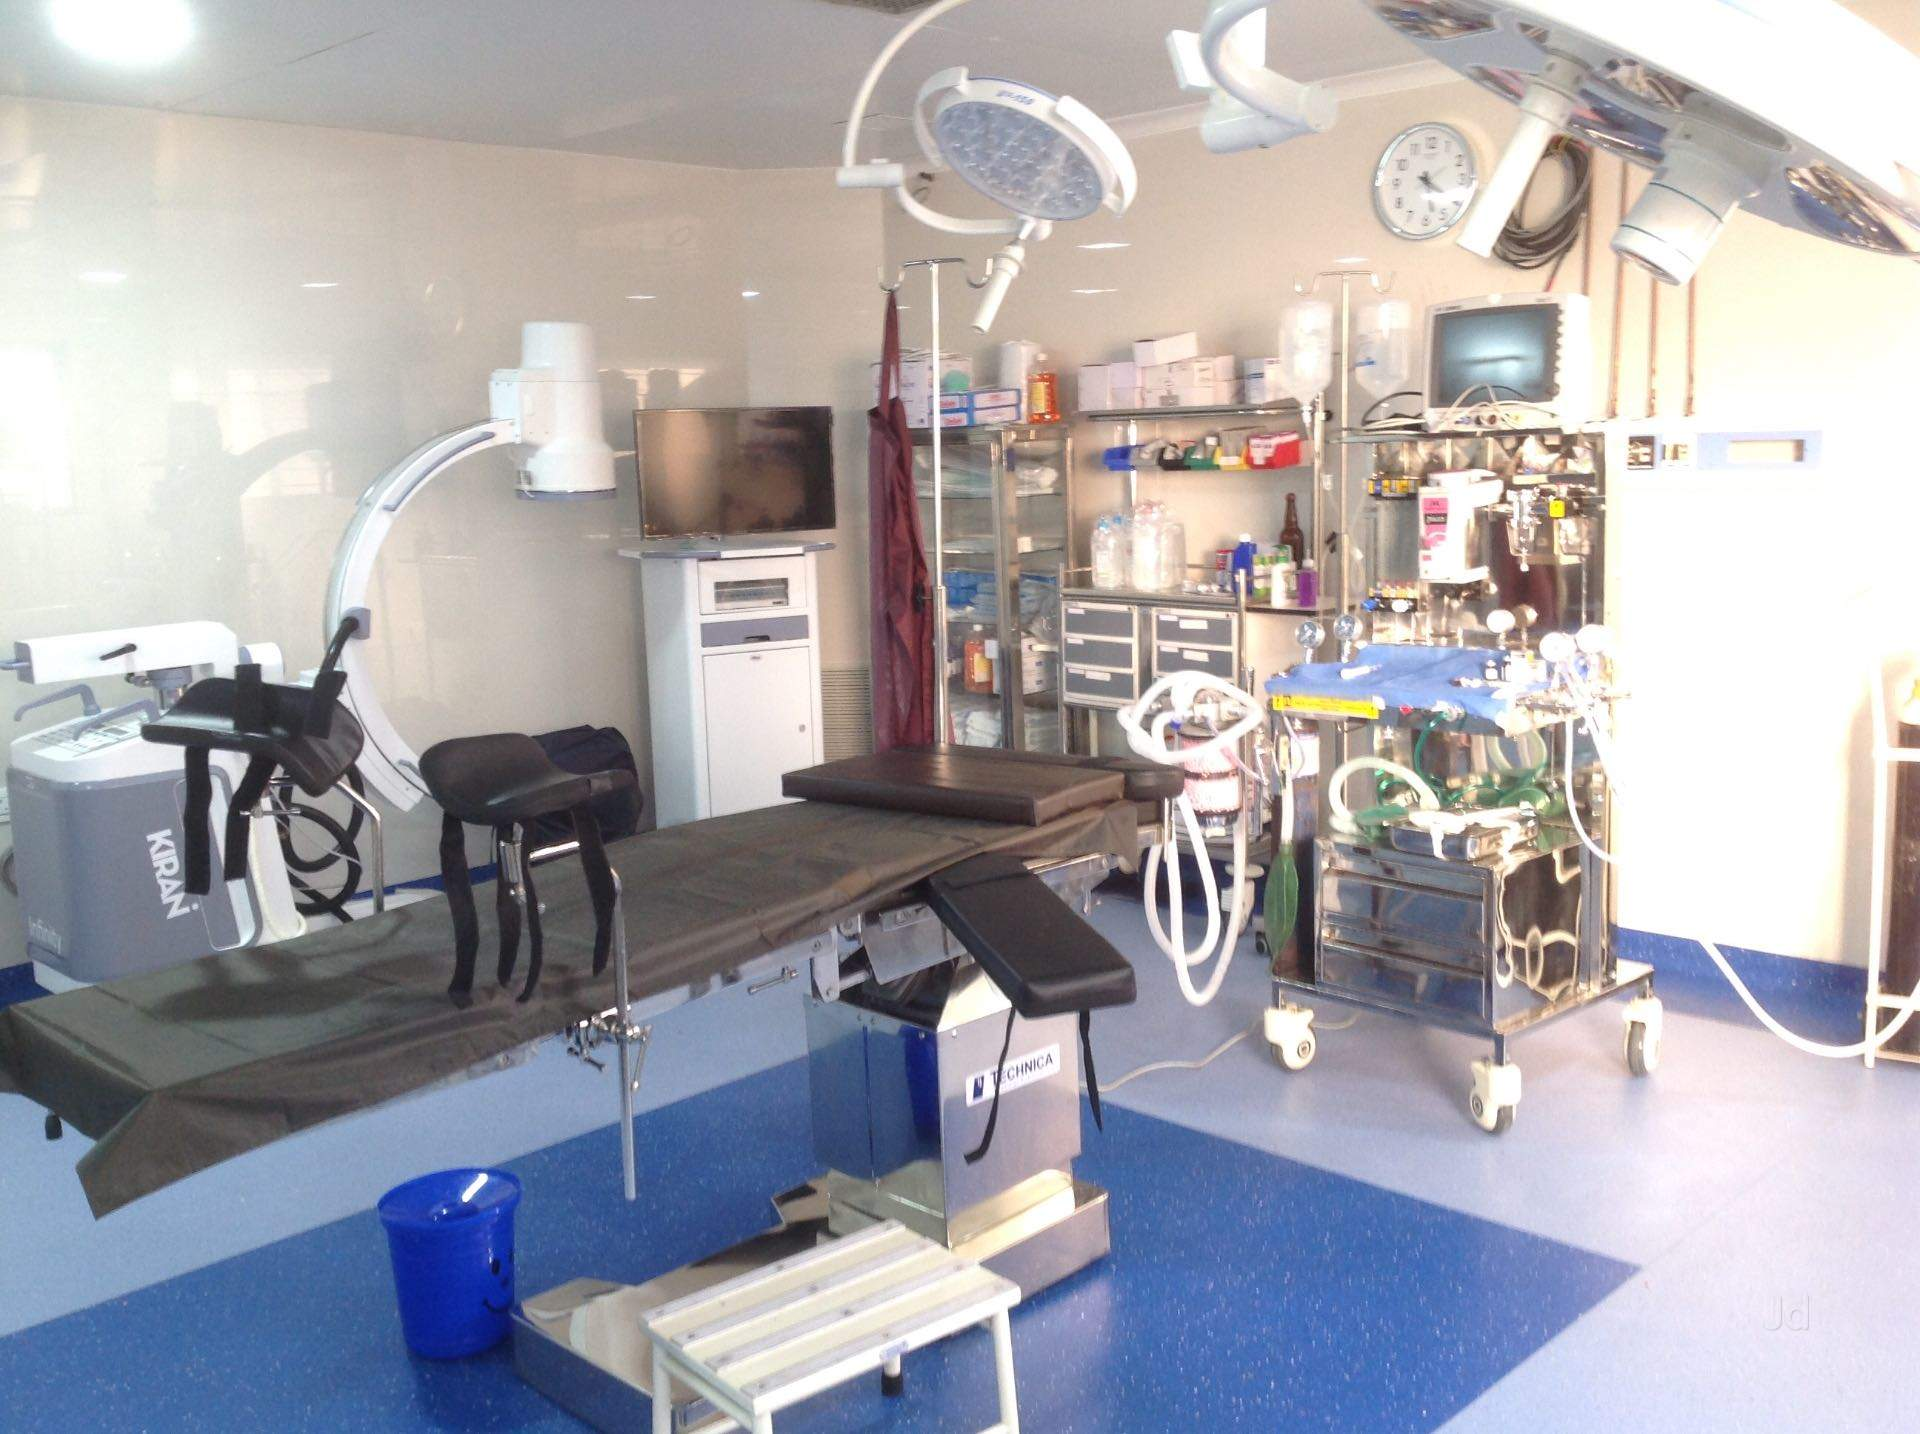bedside_monitor: (628, 407, 842, 544), (1416, 294, 1596, 429)
breathing_tube: (1119, 672, 1269, 999)
cabinet: (888, 405, 1291, 776)
handle: (1178, 651, 1211, 664), (1179, 619, 1205, 631), (1084, 673, 1113, 682), (1068, 606, 1086, 618), (1068, 639, 1086, 648)
iv_pole: (876, 249, 1019, 746), (1288, 255, 1406, 660)
medical_drawer: (1057, 589, 1247, 771)
operating_bed: (2, 672, 1205, 1422)
surgical_light: (1367, 2, 1920, 288), (913, 60, 1144, 224)
ventilator: (1263, 639, 1666, 1140)
waste_bin: (381, 1164, 521, 1365)
